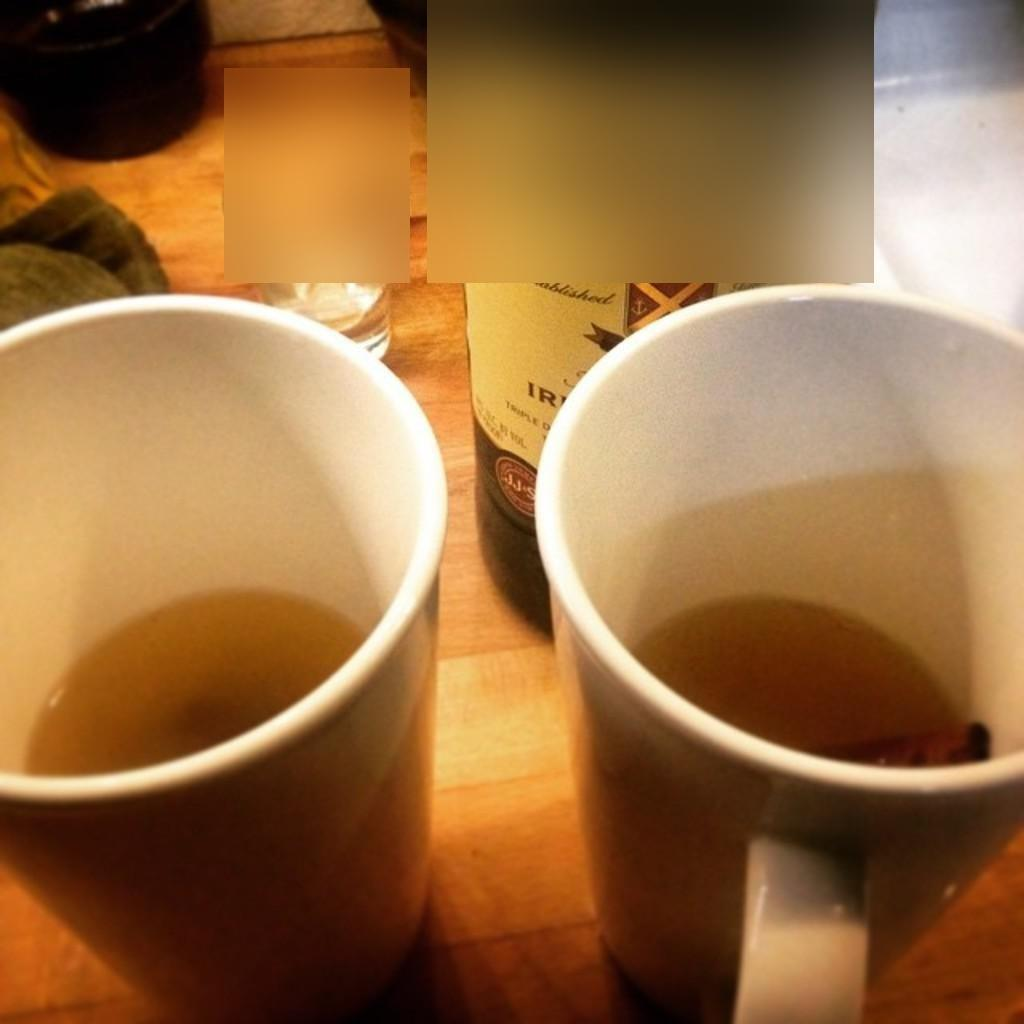cup-handle: (531, 284, 1023, 1023), (1, 288, 452, 1023)
